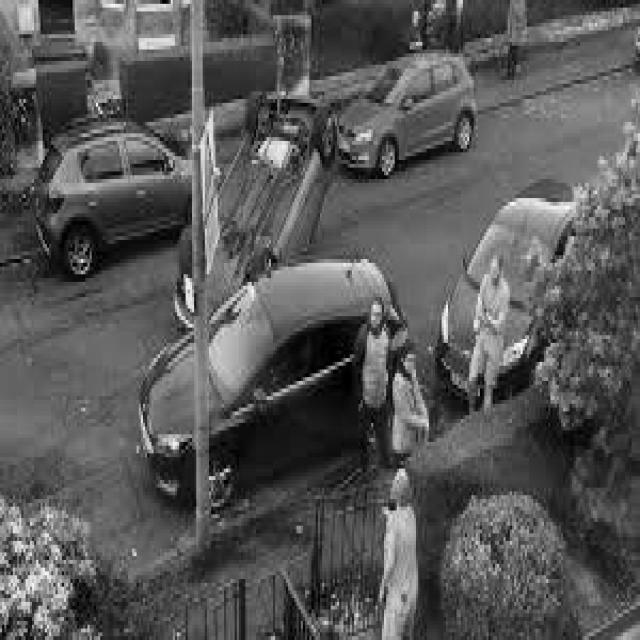accident: (170, 80, 341, 335)
vehicle: (130, 260, 405, 498), (439, 177, 586, 395), (30, 116, 208, 276), (335, 48, 485, 180)
